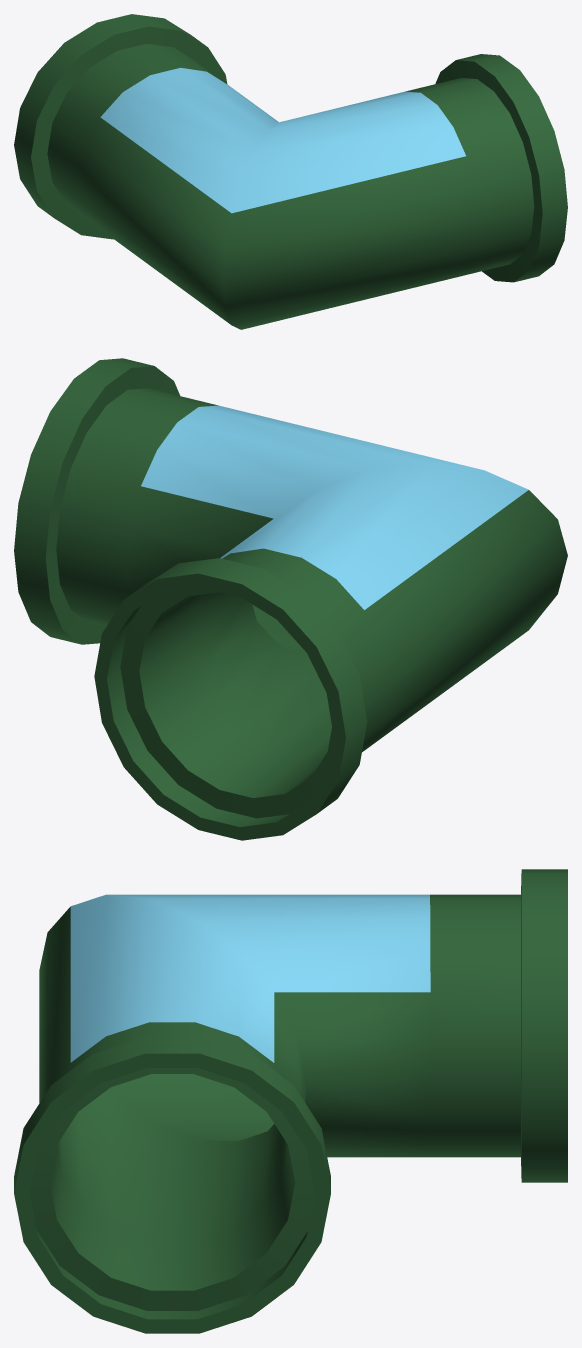
File: curva ventana.fbx
3 renders of one model, top to bottom at view 1: azimuth 30°, elevation 25°; view 2: azimuth 150°, elevation 25°; view 3: azimuth 270°, elevation 25°, orthographic. The views are drawn at different scales.
Visible parts, largest first — view 1: CURVA ventana, ventana curva; view 2: CURVA ventana, ventana curva; view 3: CURVA ventana, ventana curva.
Part boxes in pixels (bbox=[...]): CURVA ventana: bbox=[14, 14, 567, 329]; ventana curva: bbox=[100, 67, 465, 213]; CURVA ventana: bbox=[14, 358, 567, 840]; ventana curva: bbox=[141, 405, 528, 609]; CURVA ventana: bbox=[14, 869, 567, 1333]; ventana curva: bbox=[70, 894, 430, 1062].
Size of the model in its own units: 0.7002 by 0.3895 by 0.6988.
